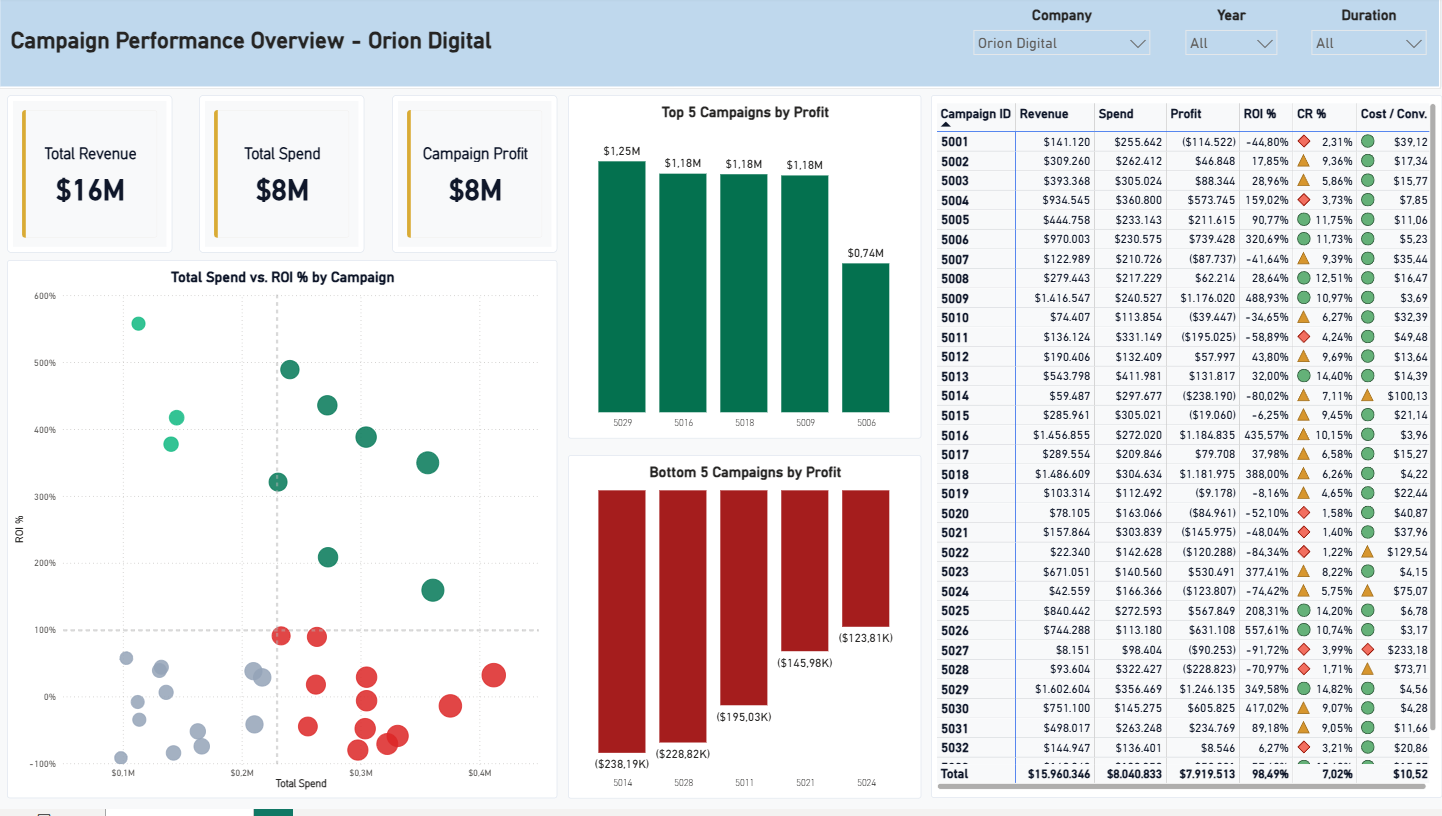

This screenshot's page, from the dashboard's own definition file:
{"tool":"powerbi","page":{"name":"campaign_overview","canvas":[1920,1080],"ordinal":0},"visuals":[{"type":"shape","box":[0,0,1919.6,122.2],"z":0},{"type":"cardVisual","fields":{"Data":["_Measures.Total Revenue"]},"box":[11.4,130,220,210],"z":1000},{"type":"cardVisual","fields":{"Data":["_Measures.Total Spend"]},"box":[267.7,130.3,220,210],"z":2000},{"type":"cardVisual","fields":{"Data":["_Measures.Campaign Profit"]},"box":[524,130.3,220,210],"z":3000},{"type":"scatterChart","title":"Total Spend vs. ROI % by Campaign","fields":{"Category":["DimCampaign.campaign_id"],"Size":["_Measures.Bubble Size"],"X":["_Measures.Total Spend"],"Y":["_Measures.ROI %"]},"box":[12,349.8,731.5,715.6],"z":4000},{"type":"pivotTable","fields":{"Rows":["DimCampaign.campaign_id"],"Values":["_Measures.Total Revenue","_Measures.Total Spend","_Measures.Campaign Profit","_Measures.ROI %","_Measures.CR %","_Measures.Cost per Conversion"]},"box":[1240.9,130.3,679.7,935],"z":5000},{"type":"slicer","title":"Company","fields":{"Values":["DimCampaign.company"]},"box":[1287.5,12,255.4,97.1],"z":6000},{"type":"clusteredColumnChart","title":"Top 5 Campaigns by Profit","fields":{"Category":["DimCampaign.campaign_id"],"Y":["_Measures.Campaign Profit"]},"box":[758.1,130.3,470,457],"z":7000},{"type":"columnChart","title":"Bottom 5 Campaigns by Profit","fields":{"Category":["DimCampaign.campaign_id"],"Y":["_Measures.Campaign Profit"]},"box":[758.1,609.2,470,457.1],"z":8000},{"type":"textbox","box":[12,39.9,799.4,82.5],"z":9001},{"type":"slicer","title":"Year","fields":{"Values":["DimDate.Year"]},"box":[1569.5,12,142.3,94.4],"z":9002},{"type":"slicer","title":"Duration","fields":{"Values":["DimCampaign.Duration Tier"]},"box":[1737,12,172.9,97.1],"z":9003}]}

Visuals, with their boxes in screenshot pixels (x1, y1, x2, y2), scaled from the page's 1920x1080 canvas onto the 1442x816 screenshot:
shape: bbox=(0, 0, 1441, 92)
cardVisual - _Measures.Total Revenue: bbox=(9, 98, 174, 257)
cardVisual - _Measures.Total Spend: bbox=(201, 98, 366, 257)
cardVisual - _Measures.Campaign Profit: bbox=(394, 98, 559, 257)
"Total Spend vs. ROI % by Campaign" scatterChart: bbox=(9, 264, 558, 805)
pivotTable - DimCampaign.campaign_id x _Measures.Total Revenue: bbox=(932, 98, 1441, 805)
"Company" slicer: bbox=(967, 9, 1159, 82)
"Top 5 Campaigns by Profit" clusteredColumnChart: bbox=(569, 98, 922, 444)
"Bottom 5 Campaigns by Profit" columnChart: bbox=(569, 460, 922, 806)
textbox: bbox=(9, 30, 609, 92)
"Year" slicer: bbox=(1179, 9, 1286, 80)
"Duration" slicer: bbox=(1305, 9, 1434, 82)
